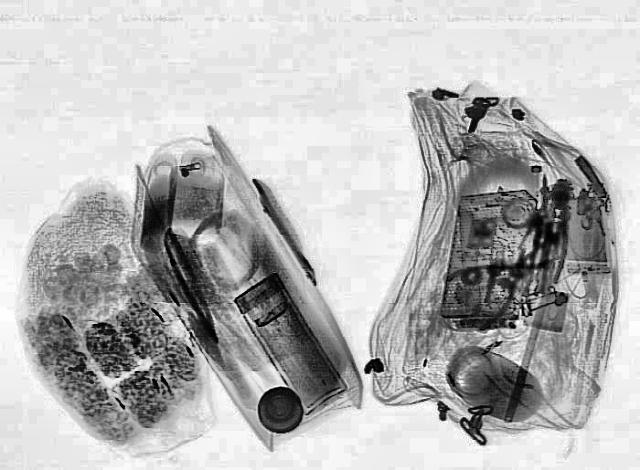Pliers: (419, 234, 566, 332)
